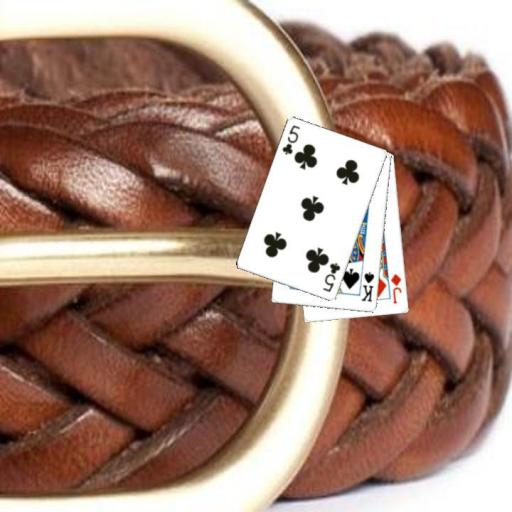5C: (320, 260, 342, 294), (280, 123, 302, 157)
JD: (388, 270, 403, 305)
KS: (359, 269, 377, 304)
